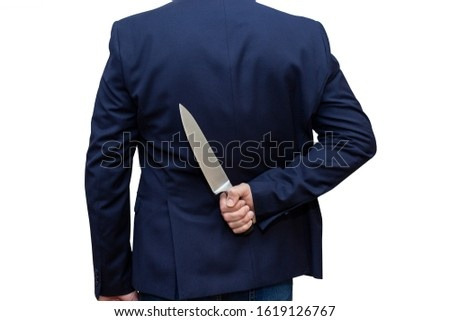knife: (178, 103, 254, 223)
